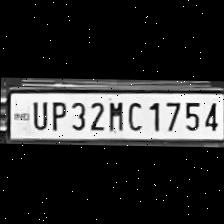1: (144, 99, 162, 130)
2: (85, 96, 105, 130)
3: (66, 98, 86, 131)
4: (200, 98, 220, 131)
5: (180, 98, 200, 131)
7: (160, 98, 180, 132)
C: (124, 98, 144, 132)
M: (103, 97, 125, 131)
P: (46, 97, 66, 130)
U: (26, 97, 48, 128)
